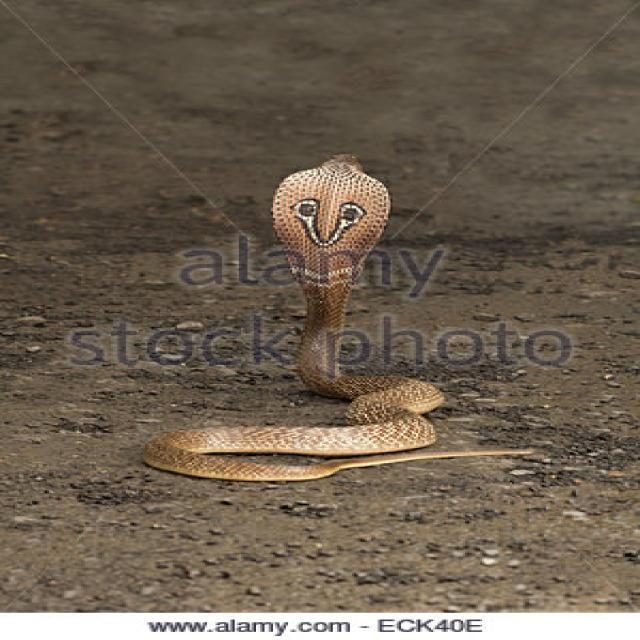Snake: (130, 142, 536, 480)
